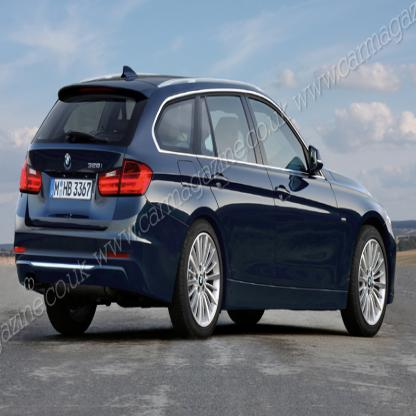Vehicle: (4, 47, 403, 374)
